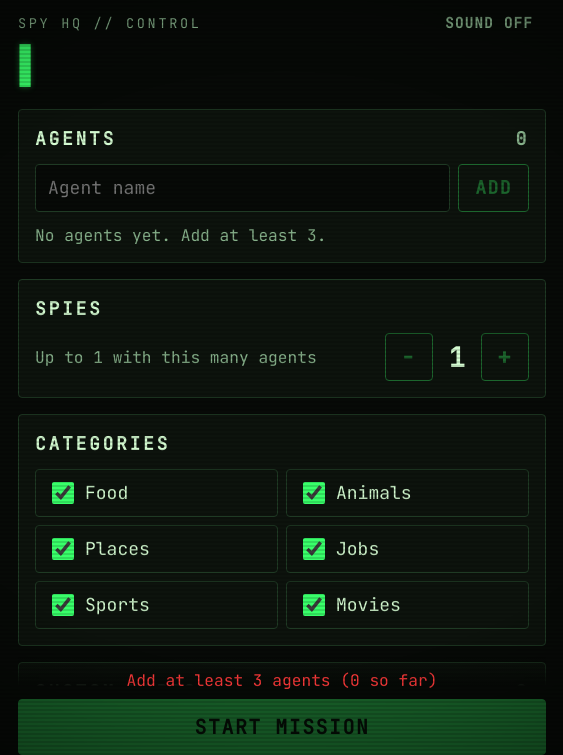
a 6-player game can be set up with typing and Enter only
expect the button "Start mission" is disabled: met, box [18,699,546,754]
expect the text "Add at least 3 agents (0 so far)" is shown: met, box [127,668,437,690]
Type "Ana" into the field labelled "Agent name".
click(243, 188); type("Ana")  # box [35,164,450,212]
Then press Enter
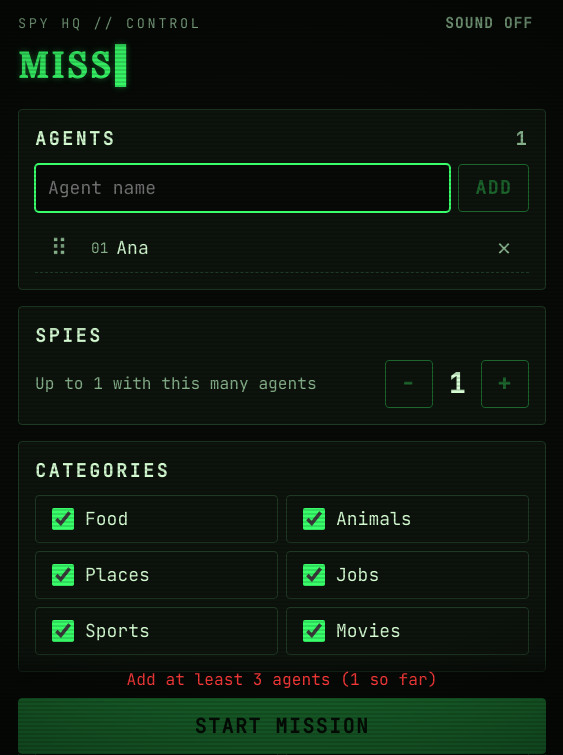
Type "Ben" into the field labelled "Agent name".
click(243, 188); type("Ben")  # box [35,164,450,212]
Then press Enter
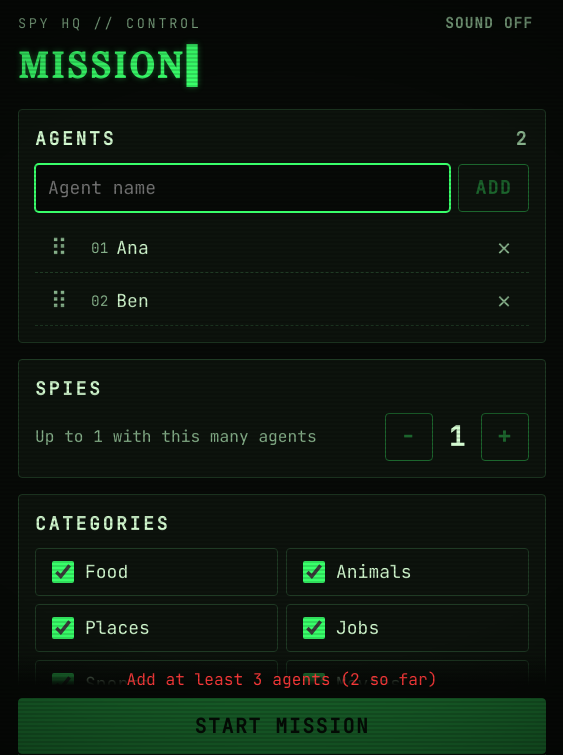
Type "Cal" into the field labelled "Agent name".
click(243, 188); type("Cal")  # box [35,164,450,212]
Then press Enter
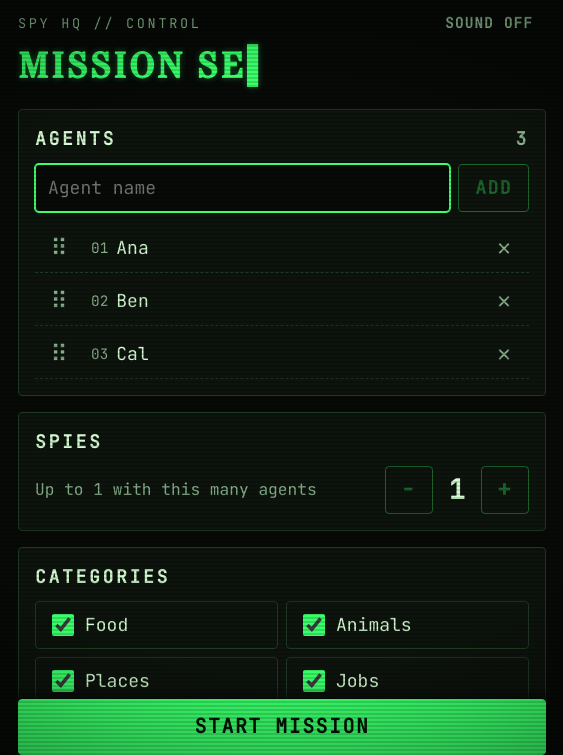
Type "Dee" into the field labelled "Agent name".
click(243, 188); type("Dee")  # box [35,164,450,212]
Then press Enter
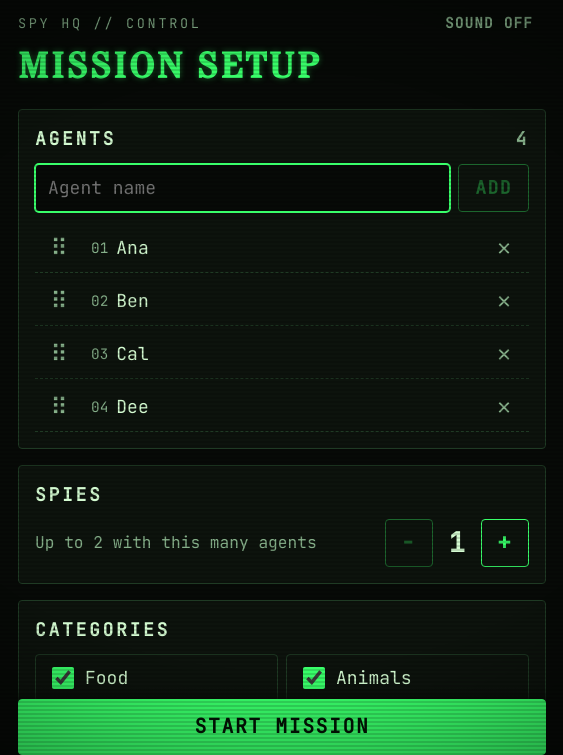
Type "Eve" into the field labelled "Agent name".
click(243, 188); type("Eve")  # box [35,164,450,212]
Then press Enter
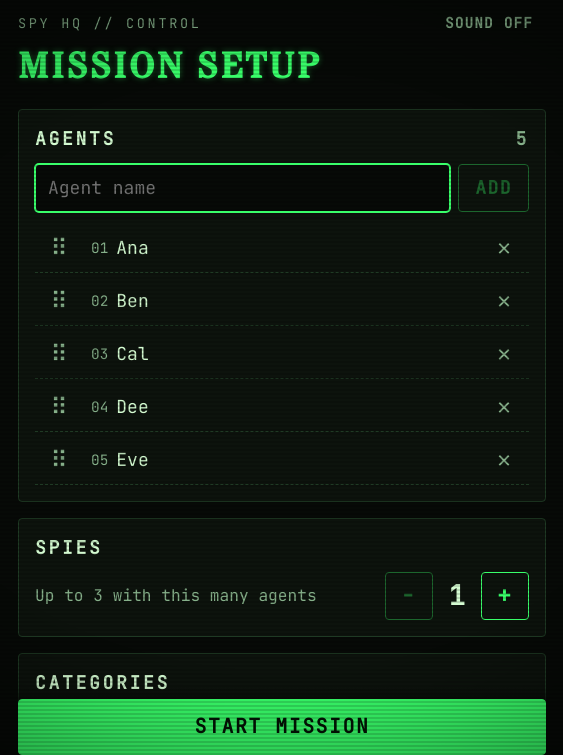
Type "Fin" into the field labelled "Agent name".
click(243, 188); type("Fin")  # box [35,164,450,212]
Then press Enter
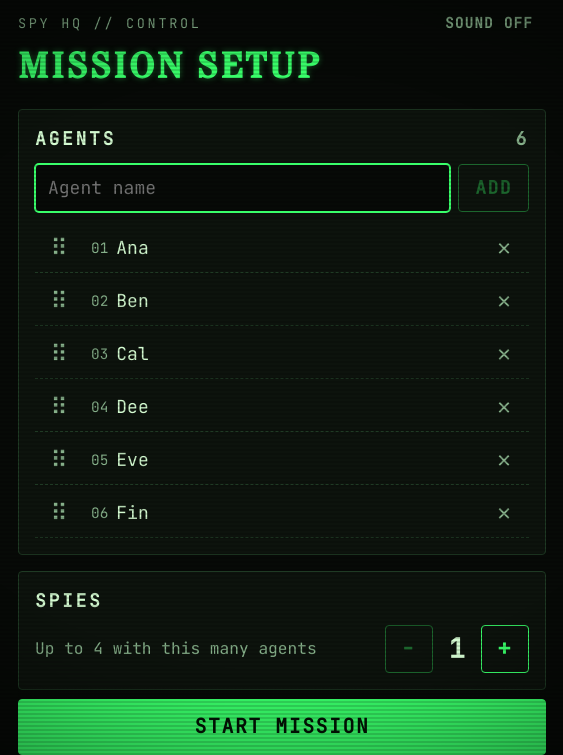
expect the button "Start mission" is enabled: met, box [18,699,546,754]
expect the number of list items is 6: met, box [35,224,529,273]; [35,277,529,326]; [35,330,529,379]; [35,383,529,432]; [35,436,529,485]; [35,489,529,538]
